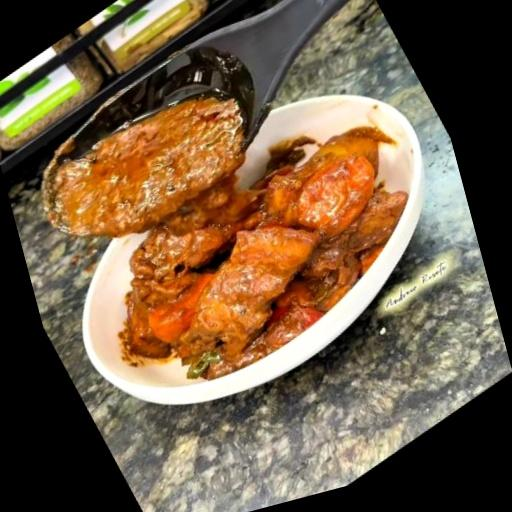pork caldereta: (120, 127, 397, 370)
